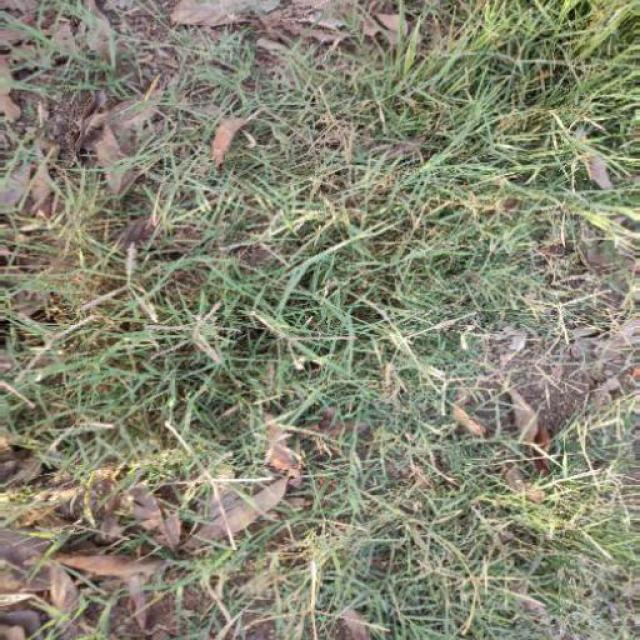weed: (91, 86, 610, 616)
